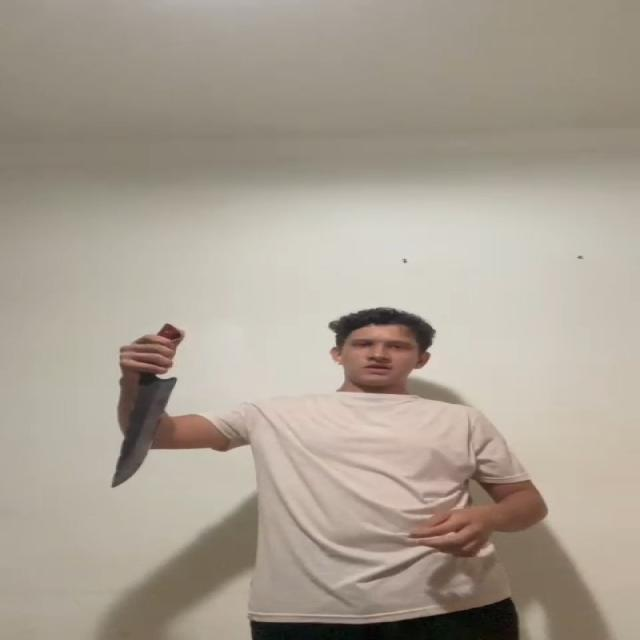knife: (108, 374, 180, 486)
